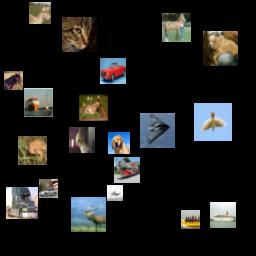airplane: (140, 113, 175, 148), (107, 185, 123, 201)
automobile: (100, 58, 126, 84), (39, 179, 58, 198)
bird: (194, 103, 232, 141), (69, 127, 95, 153)
cat: (62, 17, 97, 52)
deer: (71, 197, 106, 232), (79, 92, 108, 121), (29, 2, 51, 24)
dog: (203, 31, 238, 66), (108, 132, 130, 154)
frog: (18, 136, 47, 165)
ship: (24, 88, 53, 117), (210, 202, 236, 228), (181, 210, 200, 229)
truck: (6, 187, 38, 219), (114, 157, 140, 183)
